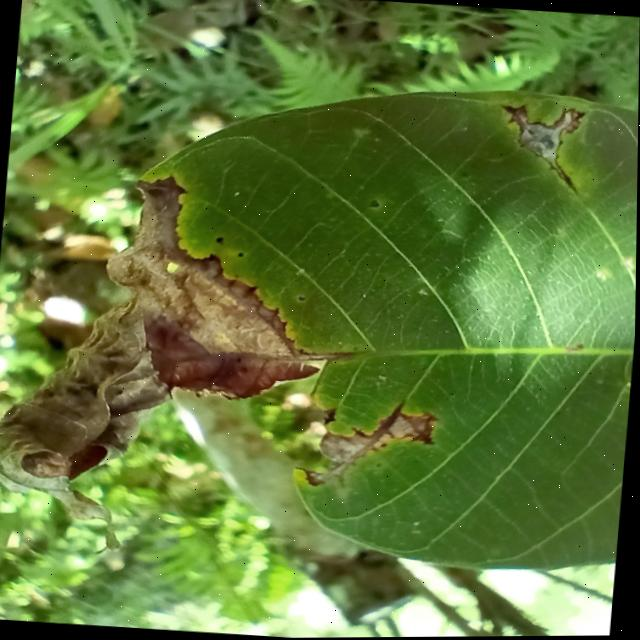Colletotrichum: (216, 237, 224, 244), (238, 252, 246, 257)
Corynespora: (493, 103, 588, 195), (351, 397, 441, 446)
Leaf-Blight: (0, 160, 336, 542), (309, 431, 376, 485)
